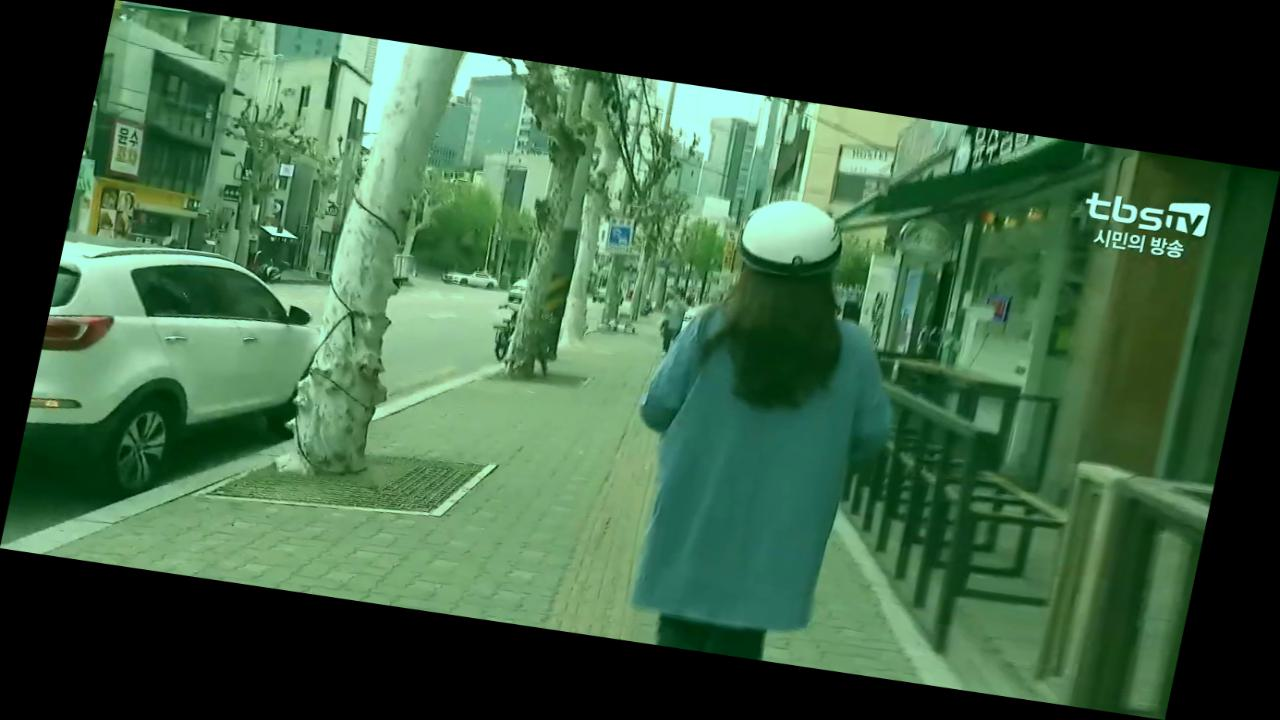helmet: (592, 184, 941, 673)
